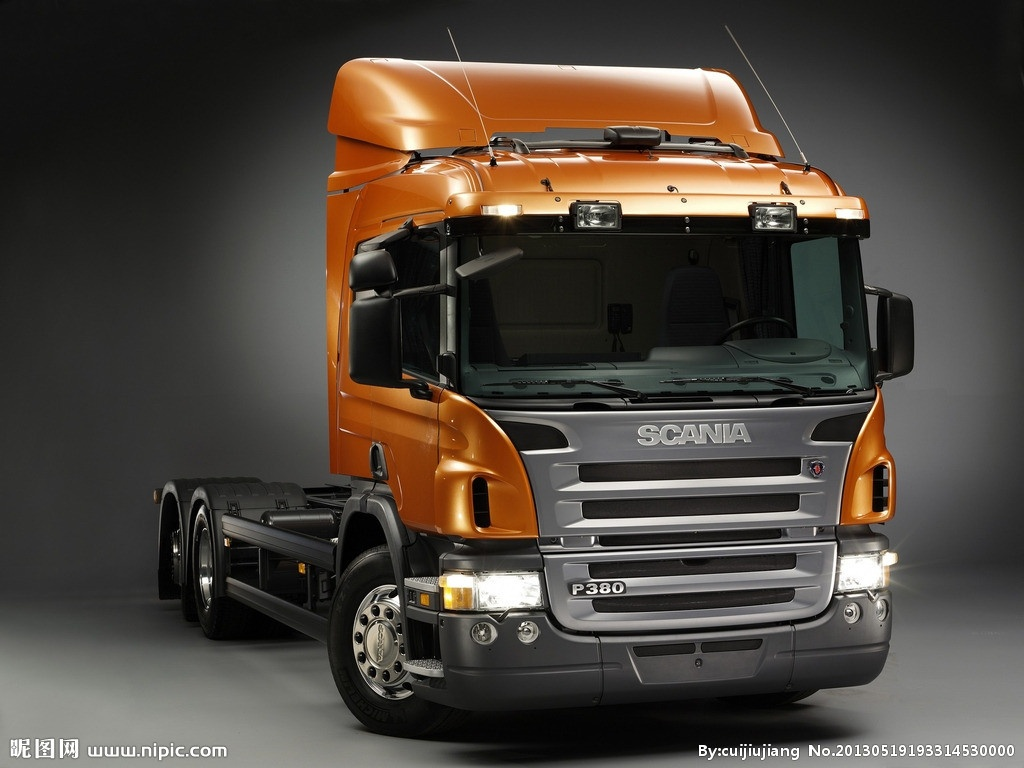heavy truck: (160, 59, 894, 725)
